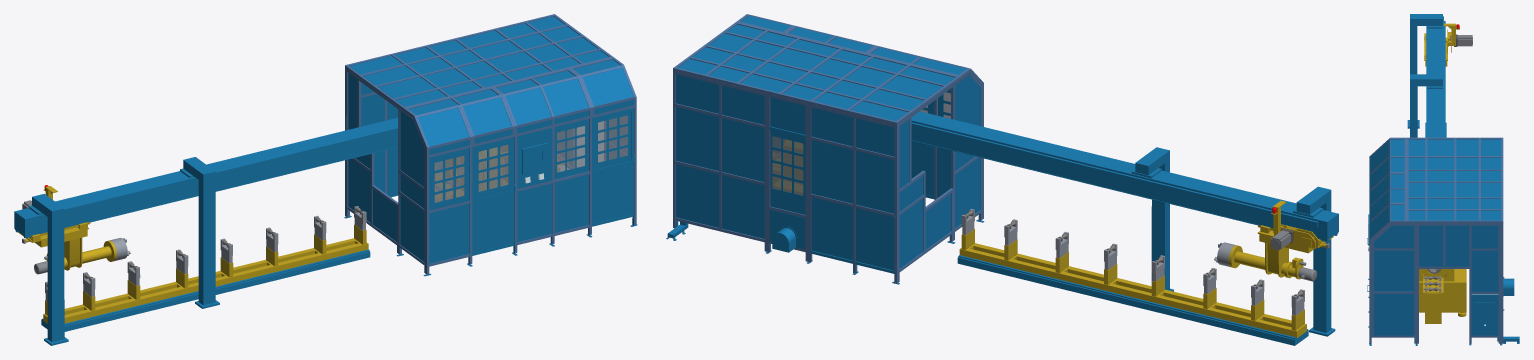
The model's file is QIEGEJI_OK.fbx.
3 views of the same model, side by side, from view 1: azimuth 30°, elevation 25°; view 2: azimuth 150°, elevation 25°; view 3: azimuth 270°, elevation 25° (orthographic). The views are drawn at different scales.
Visible parts, largest first — view 1: shenti, DADIAO, X, dd1, d, MM, bolll, dd (×2), gg, D7, Z, T; view 2: shenti, DADIAO, X, MM, bolll, dd1, Z, gg, T; view 3: shenti, DADIAO, gg, xiaomen, polySurface94984, D4, D, D7.
Part boxes in pixels (x1,y1,x2,y2): shenti: (344, 14, 637, 276); DADIAO: (14, 118, 398, 345); X: (43, 224, 368, 323); dd1: (472, 137, 515, 255); d: (592, 108, 634, 226); MM: (41, 249, 370, 331); bolll: (434, 126, 585, 202); dd (×2): (478, 115, 627, 191); gg: (435, 145, 507, 196); D7: (18, 222, 88, 247); Z: (46, 240, 116, 267); T: (64, 237, 82, 270); shenti: (666, 14, 984, 284); DADIAO: (911, 111, 1338, 336); X: (959, 228, 1306, 337); MM: (957, 255, 1308, 345); bolll: (772, 92, 950, 195); dd1: (911, 101, 934, 198); Z: (1228, 245, 1303, 279); gg: (773, 140, 802, 194); T: (1265, 243, 1288, 277); shenti: (1368, 137, 1519, 345); DADIAO: (1407, 14, 1445, 137); gg: (1419, 269, 1466, 316); xiaomen: (1471, 294, 1498, 335); polySurface94984: (1423, 277, 1443, 323); D4: (1450, 34, 1472, 46); D: (1443, 23, 1459, 45); D7: (1424, 33, 1447, 66).
Size of the model in its own units: 1020 by 256 by 285.
